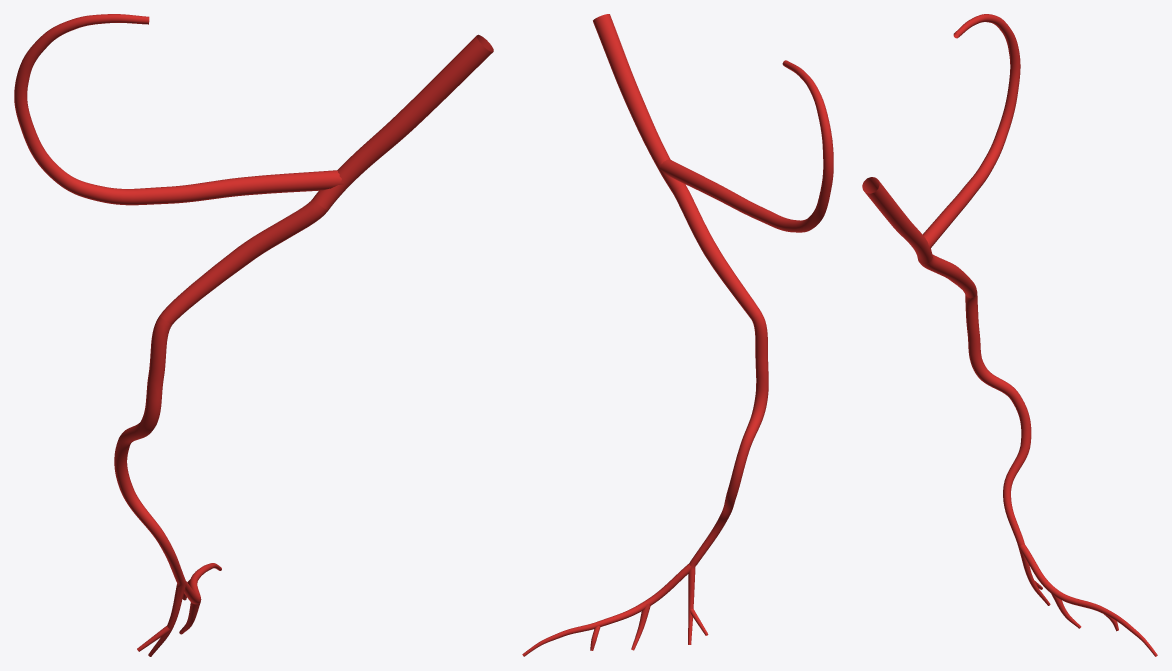
The model's file is circulatorio-ileocolic-artery.glb.
3 views of the same model, side by side, from view 1: azimuth 30°, elevation 25°; view 2: azimuth 150°, elevation 25°; view 3: azimuth 270°, elevation 25° (orthographic). The views are drawn at different scales.
Parts seen in each view (by area): view 1: Colic branch of ileocolic artery, Appendicular artery, Ileocolic artery, Ileal branch of ileocolic artery; view 2: Appendicular artery, Colic branch of ileocolic artery, Ileocolic artery, Ileal branch of ileocolic artery; view 3: Appendicular artery, Colic branch of ileocolic artery, Ileocolic artery, Ileal branch of ileocolic artery.
Part boxes in pixels (x1=…): Colic branch of ileocolic artery: x1=14, y1=14, x2=343, y2=205; Appendicular artery: x1=114, y1=316, x2=221, y2=656; Ileocolic artery: x1=312, y1=34, x2=493, y2=210; Ileal branch of ileocolic artery: x1=159, y1=199, x2=327, y2=324; Appendicular artery: x1=522, y1=313, x2=768, y2=656; Colic branch of ileocolic artery: x1=659, y1=60, x2=833, y2=232; Ileocolic artery: x1=593, y1=14, x2=685, y2=192; Ileal branch of ileocolic artery: x1=672, y1=184, x2=761, y2=319; Appendicular artery: x1=965, y1=293, x2=1157, y2=656; Colic branch of ileocolic artery: x1=922, y1=14, x2=1020, y2=248; Ileocolic artery: x1=862, y1=177, x2=932, y2=263; Ileal branch of ileocolic artery: x1=918, y1=254, x2=977, y2=298.
Size of the model in its own units: 0.068 by 0.1182 by 0.0571.
